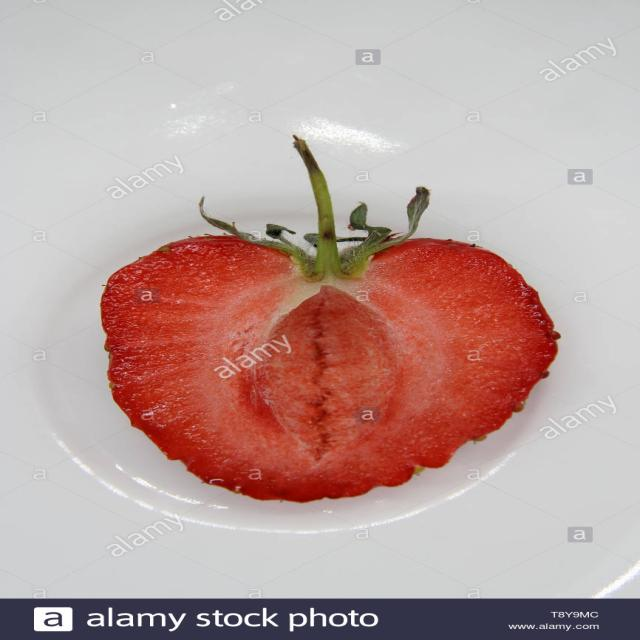strawberry: (83, 144, 592, 526)
